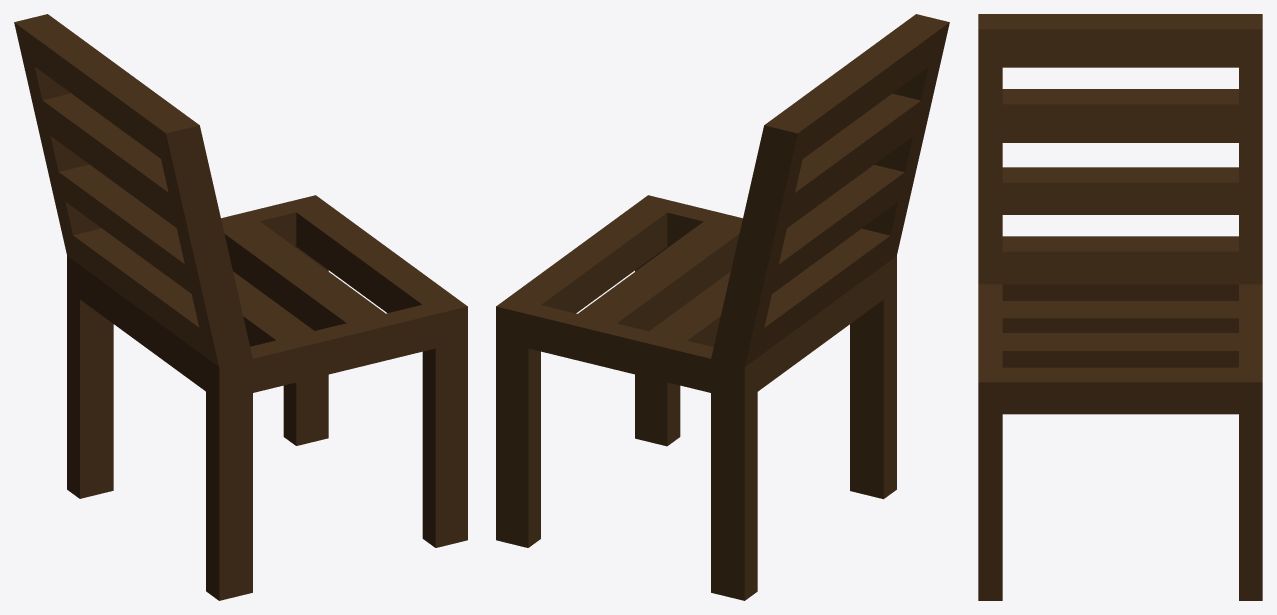
File: co_ChairWood01.fbx
3 views of the same model, side by side, from view 1: azimuth 30°, elevation 25°; view 2: azimuth 150°, elevation 25°; view 3: azimuth 270°, elevation 25° (orthographic). The views are drawn at different scales.
Visible parts, largest first — view 1: ChairB_01; view 2: ChairB_01; view 3: ChairB_01.
Boxes of the visible parts, x1=… form: ChairB_01: x1=14, y1=14, x2=467, y2=600; ChairB_01: x1=496, y1=14, x2=949, y2=600; ChairB_01: x1=978, y1=14, x2=1262, y2=600.
Bounding box in the file's own units: 162 × 246 × 141.
